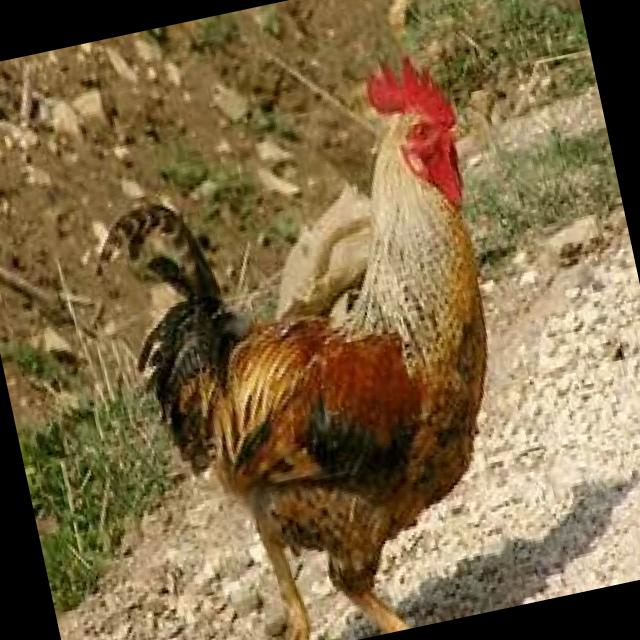animal: (64, 43, 557, 640)
